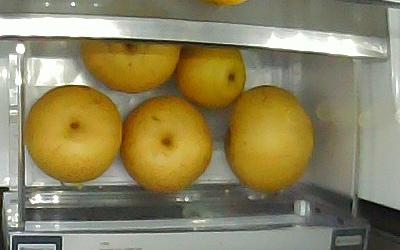pear: (225, 83, 315, 193), (25, 85, 122, 183), (123, 94, 214, 193), (78, 38, 182, 94), (178, 43, 247, 110)
